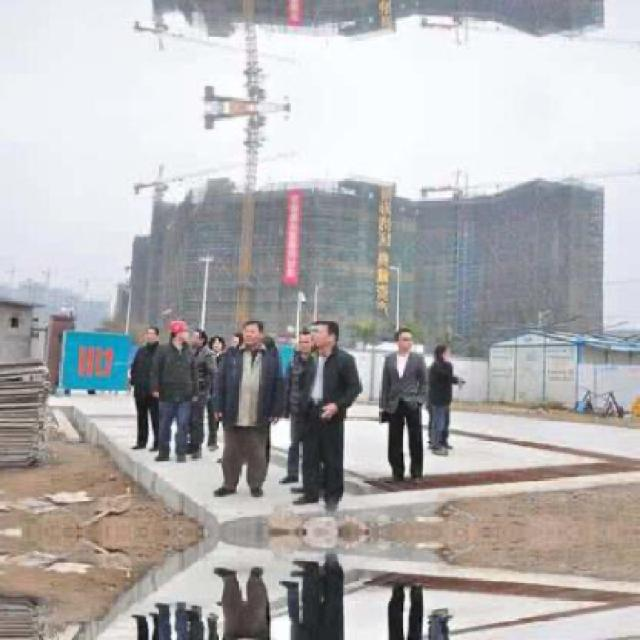sin casco: (368, 324, 432, 376), (222, 308, 282, 362), (298, 320, 354, 361)
